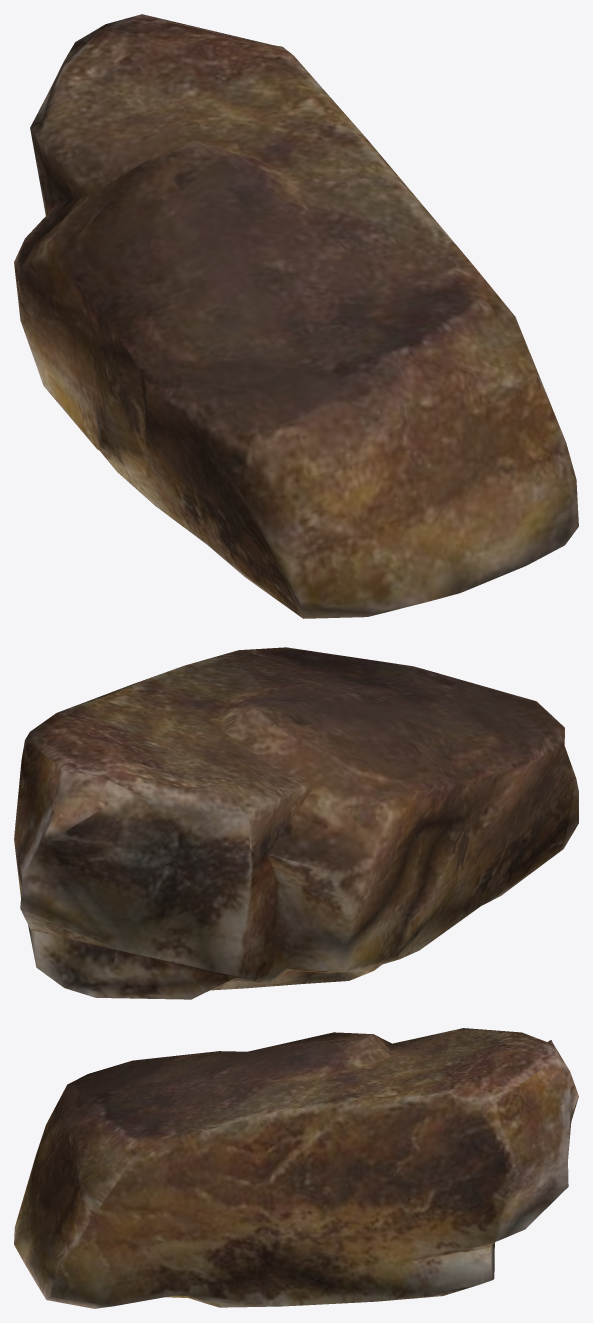
Rendered from rock_07.glb.
The picture shows the model from 3 angles, top to bottom: view 1: azimuth 30°, elevation 25°; view 2: azimuth 150°, elevation 25°; view 3: azimuth 270°, elevation 25°; orthographic projection. The views are drawn at different scales.
Parts seen in each view (by area): view 1: rock_07; view 2: rock_07; view 3: rock_07.
Boxes of the visible parts, x1=… form: rock_07: x1=14, y1=14, x2=578, y2=618; rock_07: x1=14, y1=647, x2=578, y2=999; rock_07: x1=14, y1=1028, x2=578, y2=1308.
Size of the model in its own units: 0.1667 by 0.1409 by 0.3194.
Materials: 1 (1 with a texture image).
